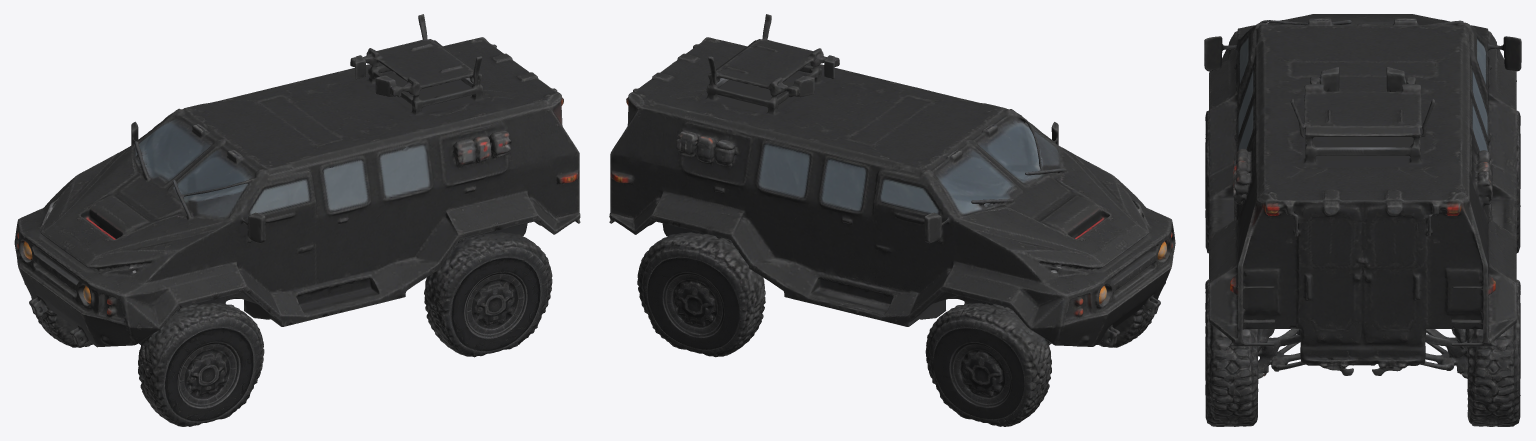
The model's file is meshy_6x6.glb.
The picture shows the model from 3 angles, left to right: view 1: azimuth 30°, elevation 25°; view 2: azimuth 150°, elevation 25°; view 3: azimuth 270°, elevation 25°; orthographic projection. The views are drawn at different scales.
Size of the model in its own units: 1.9 by 1.01 by 0.8964.
1 material, 1 textured.
